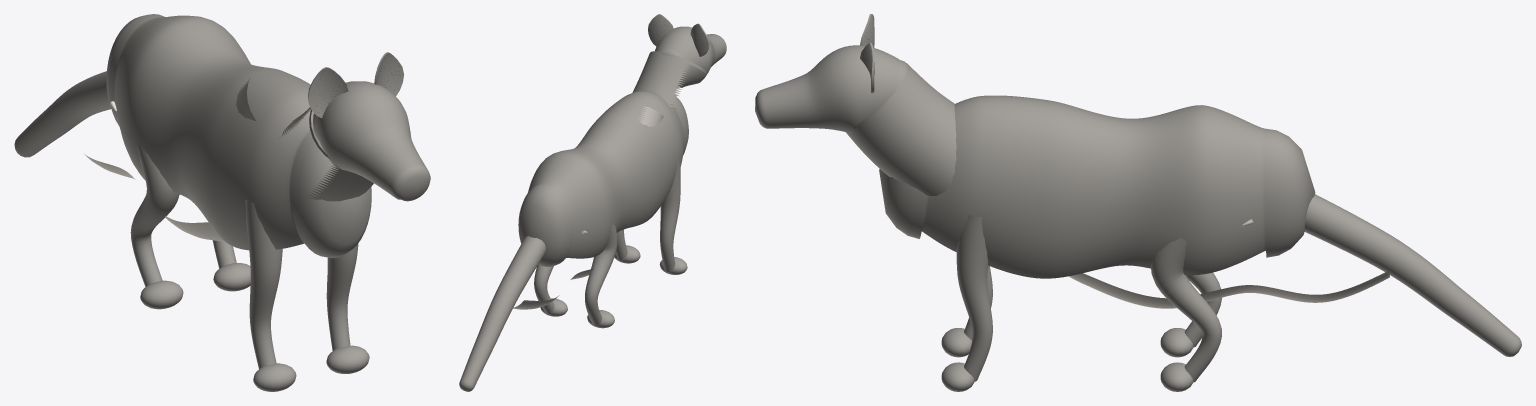
The model's file is other-grey-wolf.glb.
The picture shows the model from 3 angles, left to right: view 1: azimuth 30°, elevation 25°; view 2: azimuth 150°, elevation 25°; view 3: azimuth 270°, elevation 25°; orthographic projection. The views are drawn at different scales.
Visible parts, largest first — view 1: grey-wolf; view 2: grey-wolf; view 3: grey-wolf.
Boxes of the visible parts, x1=… form: grey-wolf: x1=14, y1=14, x2=430, y2=391; grey-wolf: x1=459, y1=14, x2=726, y2=391; grey-wolf: x1=755, y1=14, x2=1521, y2=391.
Bounding box in the file's own units: 11714 × 33797 × 68490.
Materials: 5 (2 with a texture image).
